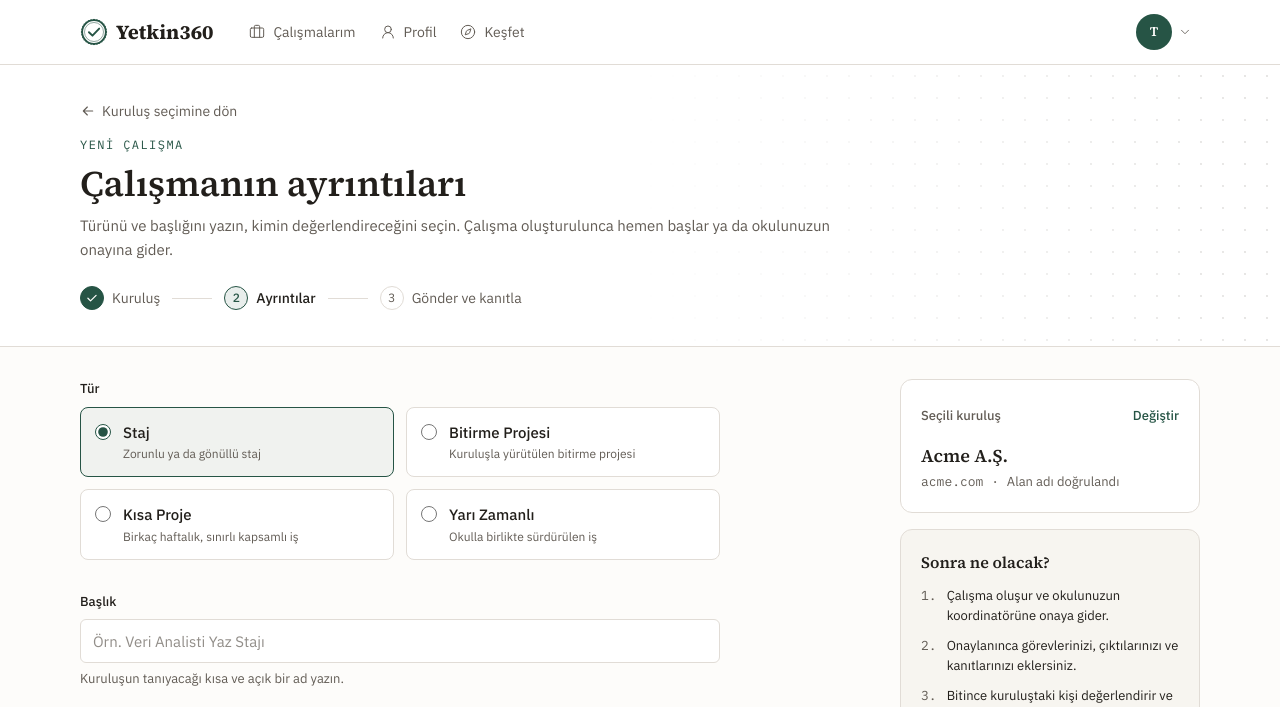
Test: CalismaOlusturPage (/calismalar/olustur) › tek adımda gönderme ve okul onayı › oluşturulup gönderilemezse taslağa bağlantı verilir ve ikinci kez oluşturulmaz
The width and height of the screenshot is (1280, 707).
Type "x" into the field labelled "Başlık" at [400, 641], box [80, 619, 720, 663]
(page scrolled)
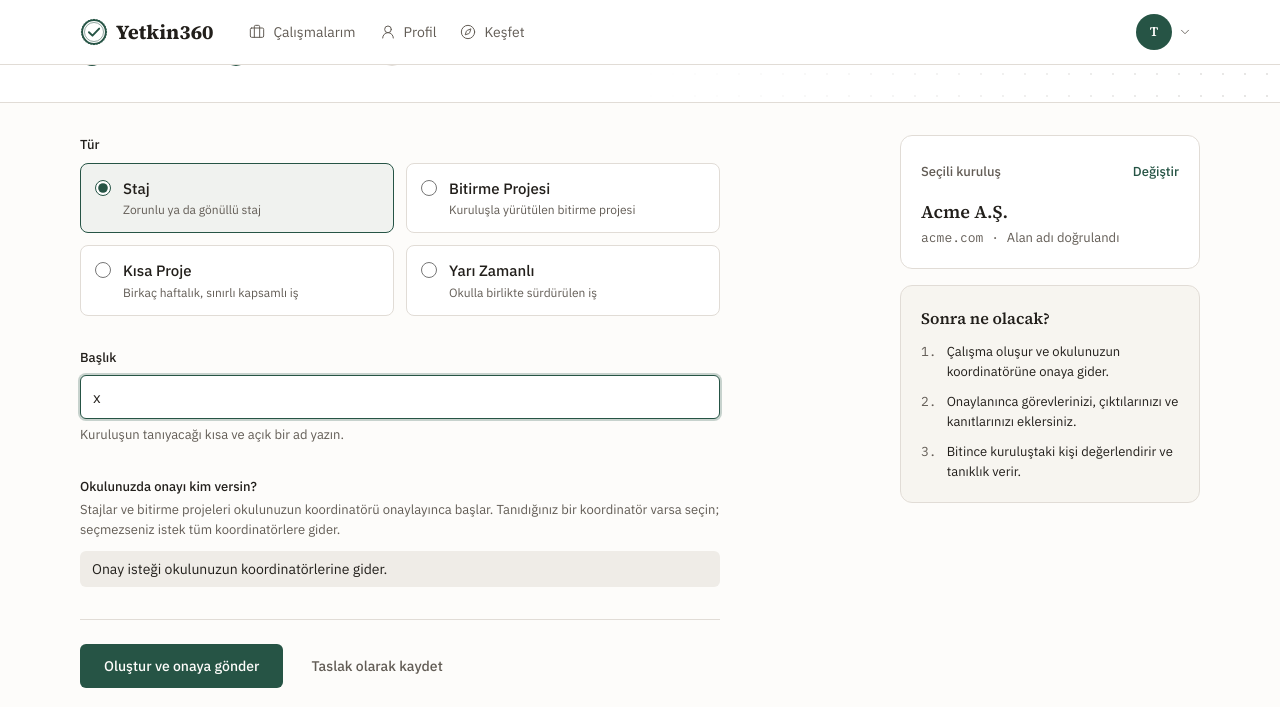
Click the button "Oluştur ve onaya gönder" at [182, 666], box [80, 644, 283, 688]
(page scrolled)
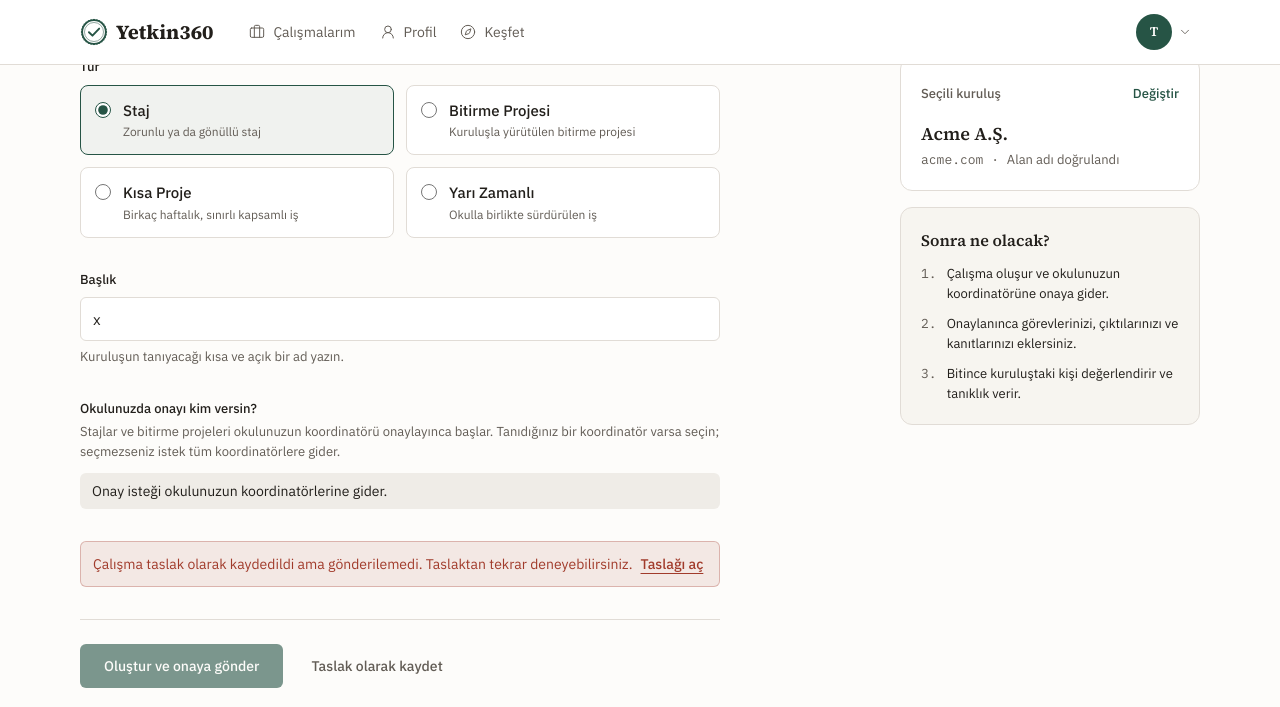
Check: the text "Çalışma taslak olarak kaydedildi ama gönderilemedi. Taslaktan tekrar deneyebilirsiniz." is shown, box [93, 555, 632, 573]
Check: the button "Oluştur ve onaya gönder" is disabled, box [80, 644, 283, 688]
